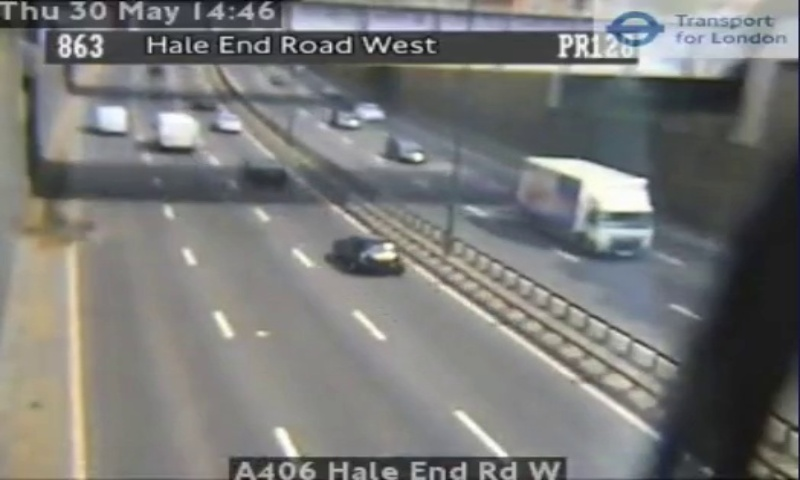car: (334, 236, 404, 273)
van: (154, 112, 196, 149)
